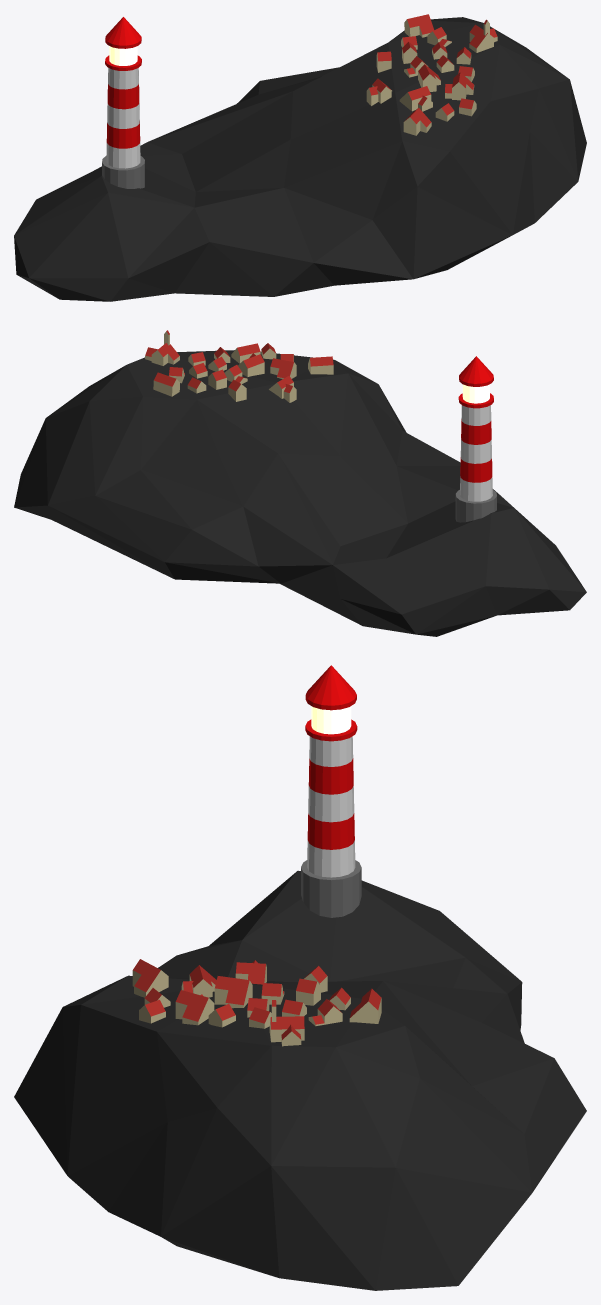
The picture shows the model from 3 angles, top to bottom: view 1: azimuth 30°, elevation 25°; view 2: azimuth 150°, elevation 25°; view 3: azimuth 270°, elevation 25°; orthographic projection. The views are drawn at different scales.
Visible parts, largest first — view 1: base rock_0, lighthouse_1, Cube.004_7, Cube.009_14, Cube.021_26, Cube.013_18, Cube.018_23, Cube.010_15; view 2: base rock_0, lighthouse_1, Cube.004_7, Cube.009_14, Cube.021_26, Cube.018_23, Cube.010_15; view 3: base rock_0, lighthouse_1, Cube.013_18, Cube.010_15, Cube.021_26, Cube.009_14, Cube.004_7.
Boxes of the visible parts, <box> form: base rock_0: <box>14,17,586,301</box>; lighthouse_1: <box>102,17,144,188</box>; Cube.004_7: <box>469,19,493,52</box>; Cube.009_14: <box>404,14,433,37</box>; Cube.021_26: <box>403,108,431,135</box>; Cube.013_18: <box>452,72,474,100</box>; Cube.018_23: <box>399,86,431,111</box>; Cube.010_15: <box>418,64,440,91</box>; base rock_0: <box>14,350,586,636</box>; lighthouse_1: <box>455,356,496,522</box>; Cube.004_7: <box>151,330,179,365</box>; Cube.009_14: <box>153,372,179,396</box>; Cube.021_26: <box>308,356,333,374</box>; Cube.018_23: <box>270,358,296,379</box>; Cube.010_15: <box>238,354,264,376</box>; base rock_0: <box>14,870,586,1290</box>; lighthouse_1: <box>301,665,361,917</box>; Cube.013_18: <box>175,990,214,1025</box>; Cube.010_15: <box>214,976,252,1008</box>; Cube.021_26: <box>132,959,168,997</box>; Cube.009_14: <box>349,988,381,1023</box>; Cube.004_7: <box>269,1000,304,1042</box>.
Size of what is drawn, in the model's own units: 8.51 by 3.84 by 5.36.
